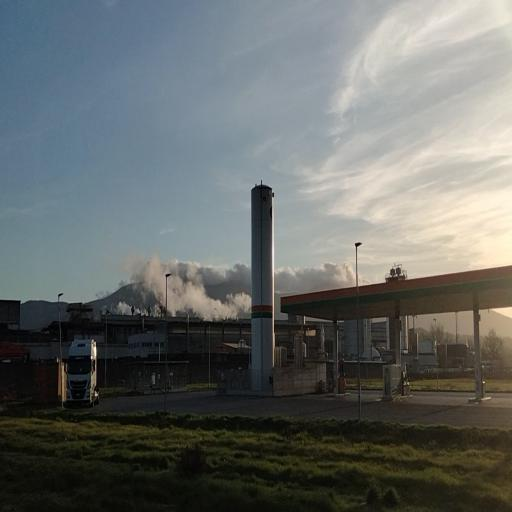leakage: (111, 247, 253, 324)
